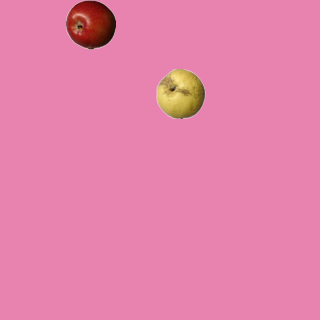Apple Braeburn: (65, 0, 115, 49)
Apple Golden 1: (155, 68, 205, 118)
